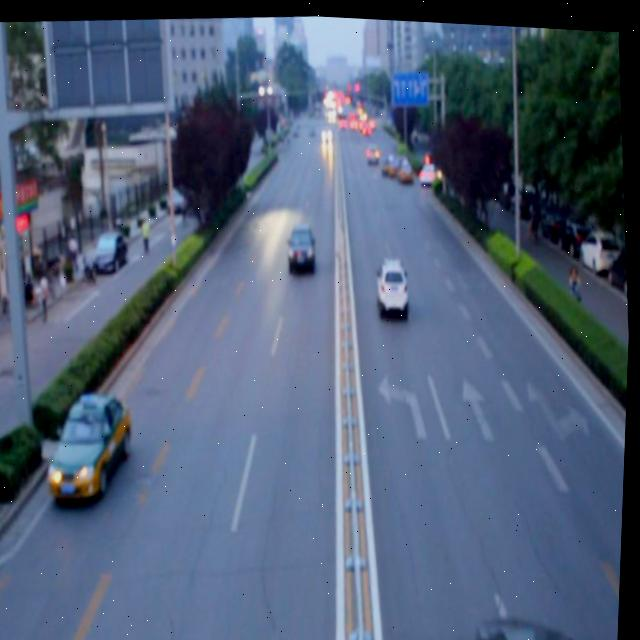car: (48, 388, 139, 498), (472, 595, 594, 640), (372, 249, 413, 313), (283, 215, 321, 275)
